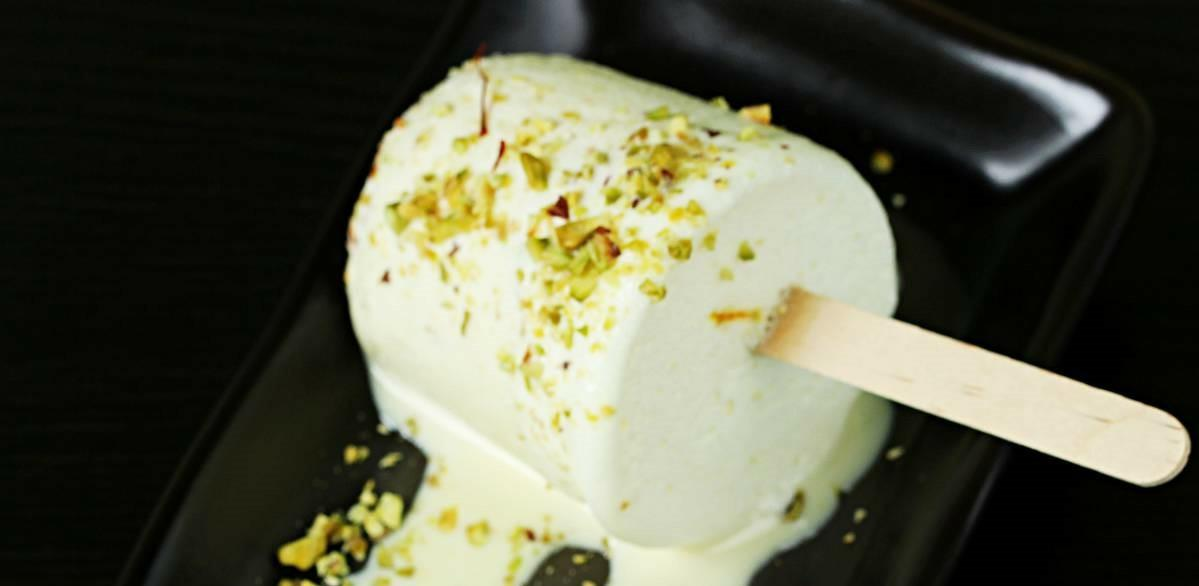Kulfi: (343, 48, 899, 555)
